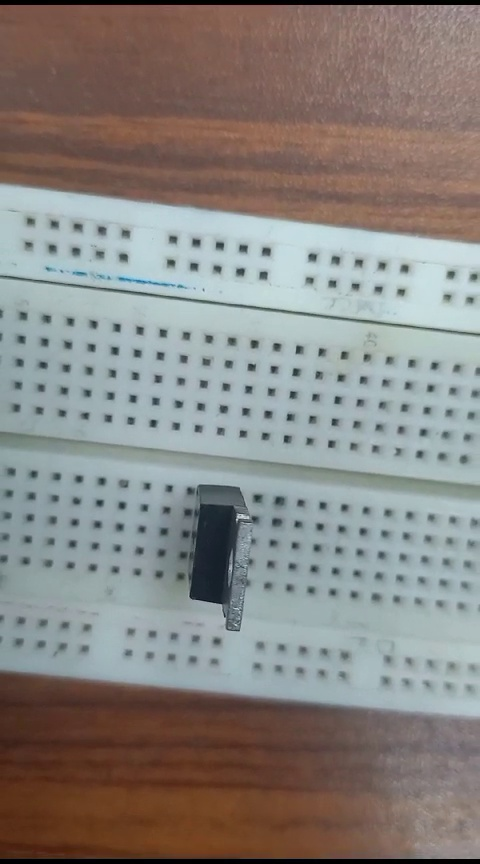voltage regulator: (178, 477, 269, 629)
